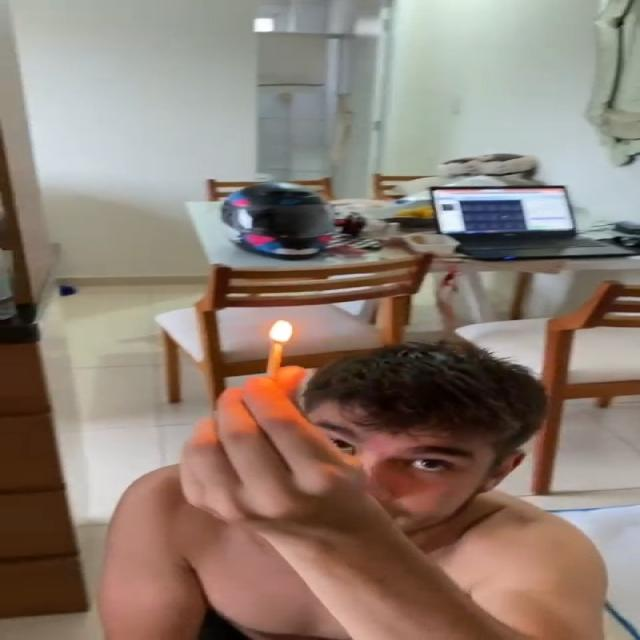fogo-ypXI: (269, 319, 294, 344)
